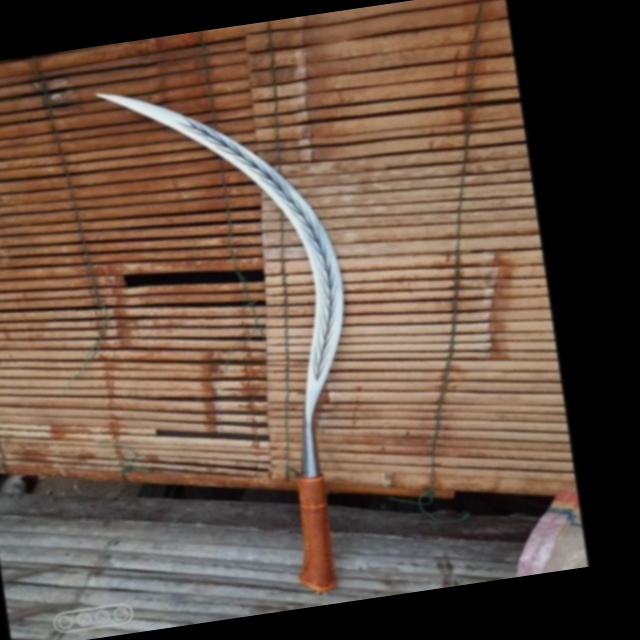Sharp-Object: (84, 15, 395, 615)
